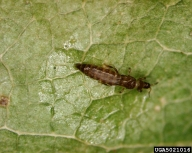Thrips: (65, 55, 157, 99)
